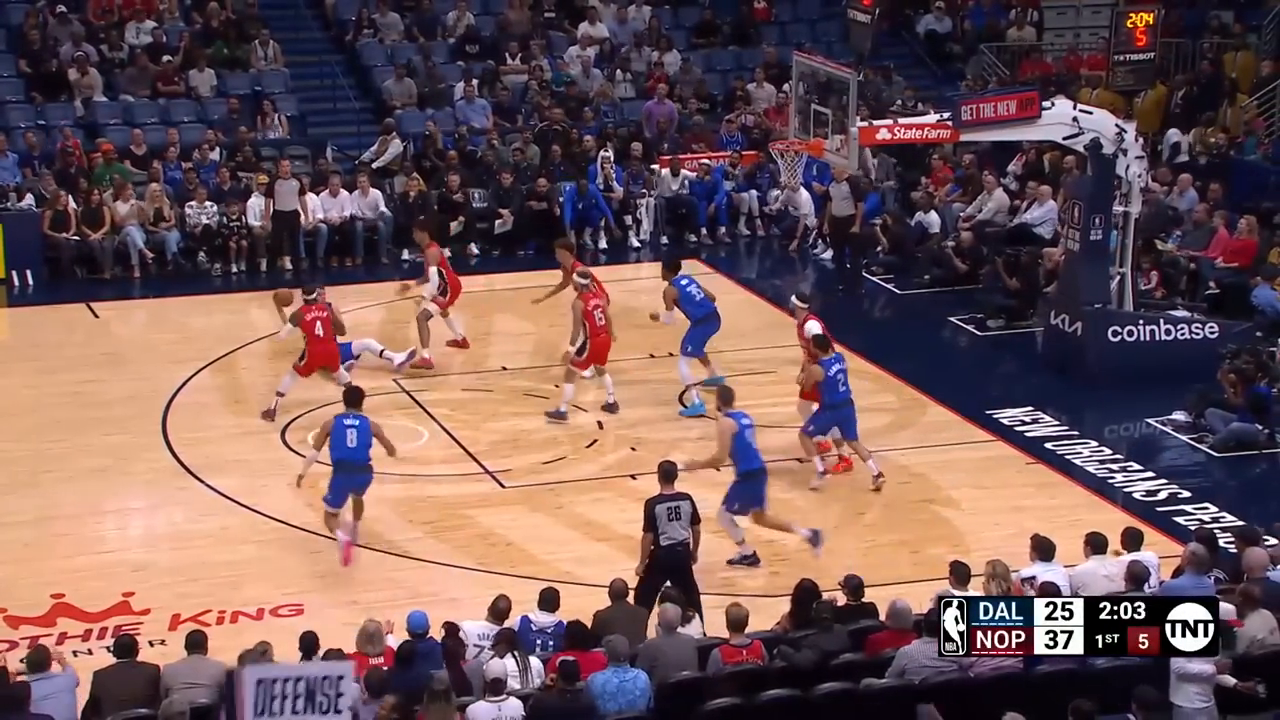ball: (269, 283, 295, 312)
net: (766, 135, 811, 190)
